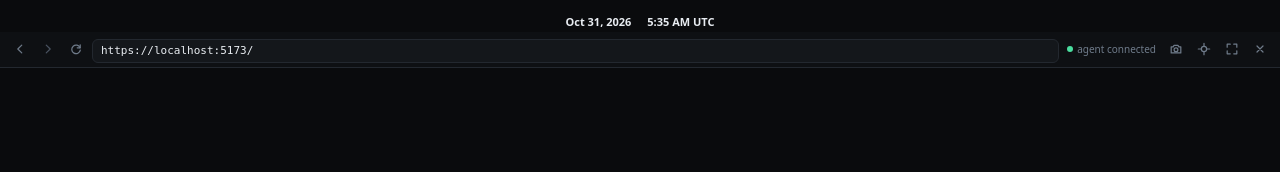
Test: BrowserPane browser clock (#642) › queues nothing and says so when stamping fails
Click the button named "attach page to prompt" at {"x": 1176, "y": 49}, box [1164,37,1188,61]
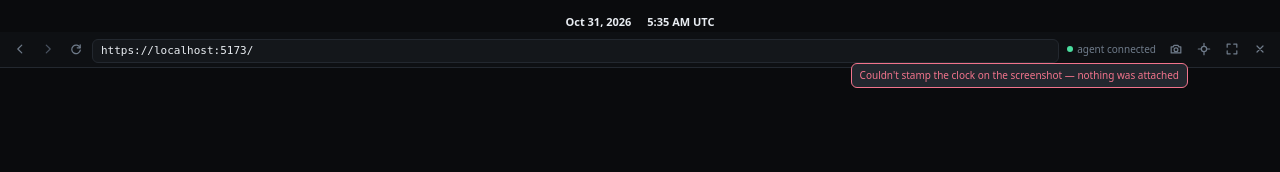
Check: the message "Couldn't stamp the clock on the screenshot — nothing was attached" is shown, box [851,63,1188,88]
